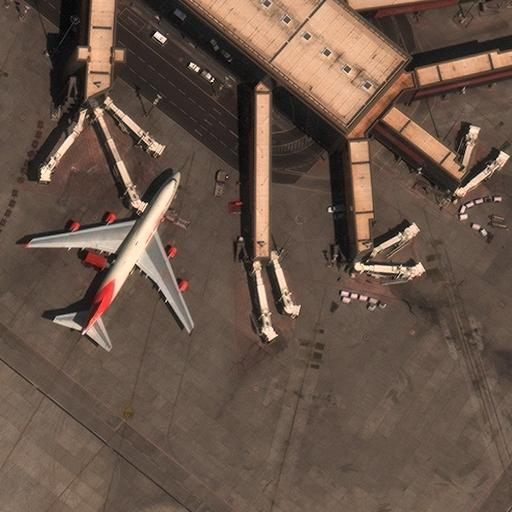Large Civil Transport: (31, 171, 194, 334)
